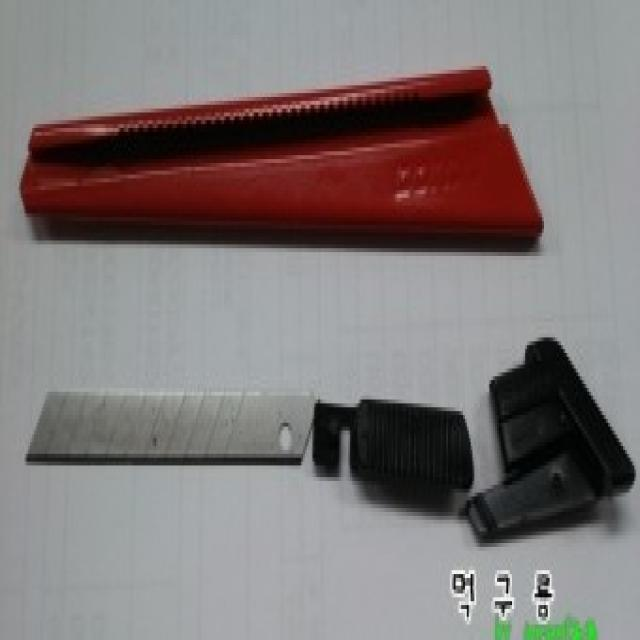estilete: (28, 392, 317, 465)
